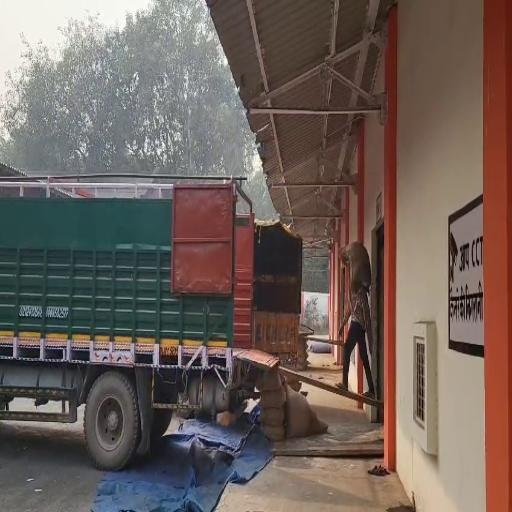bag: (338, 238, 372, 296)
